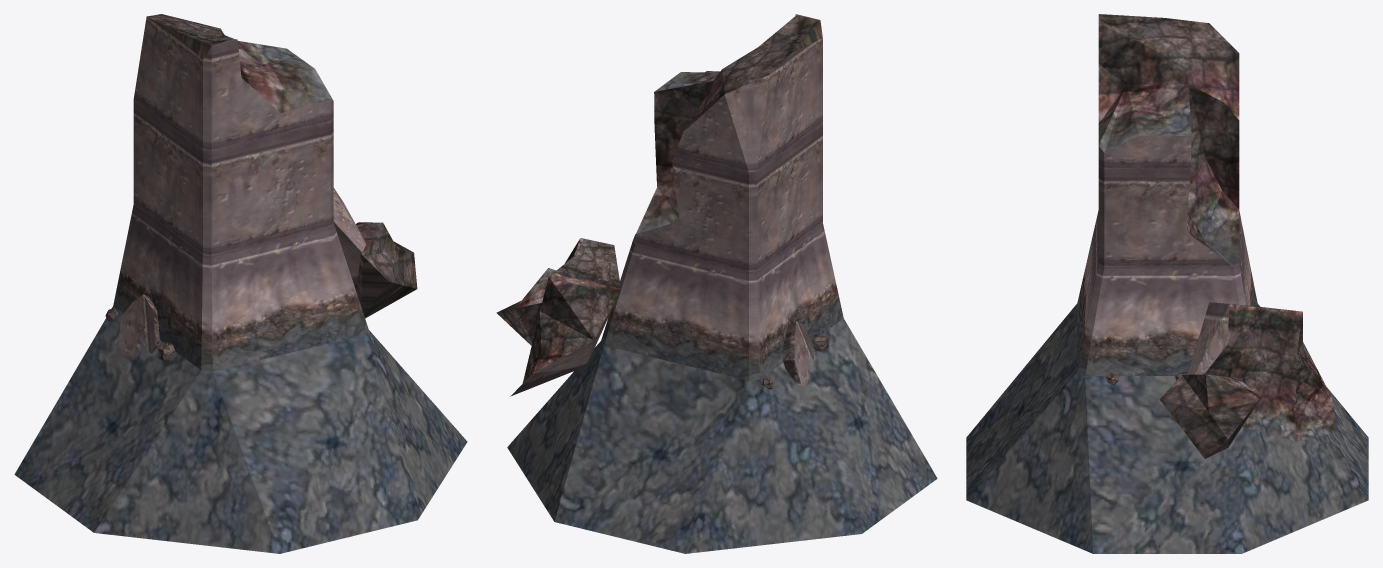
Rendered from C4SMLBDGA_H.obj.
3 renders of one model, left to right at view 1: azimuth 30°, elevation 25°; view 2: azimuth 150°, elevation 25°; view 3: azimuth 270°, elevation 25°, orthographic. The views are drawn at different scales.
Parts seen in each view (by area): view 1: Node 0; view 2: Node 0; view 3: Node 0.
Part boxes in pixels (x1,y1,x2,y2): Node 0: (14,14,467,553); Node 0: (496,14,937,553); Node 0: (966,14,1368,553).
Bounding box in the file's own units: 11.72 × 13 × 11.16.
Materials: 4 (4 with a texture image).
